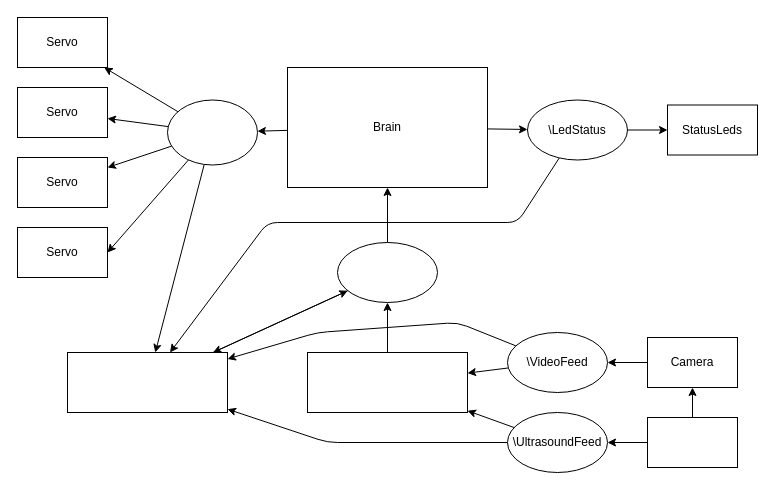
This 775x490 diagram has some shape labels left out. The shapes that lost their labels are listed below. From the top down, each one's centre as x and y in pixels, then its label:
(212,132): \ServoPos
(387,272): \TargetLocation
(147,382): NetworkInterface
(387,382): ImageRecognition
(692,442): Ultrasound
